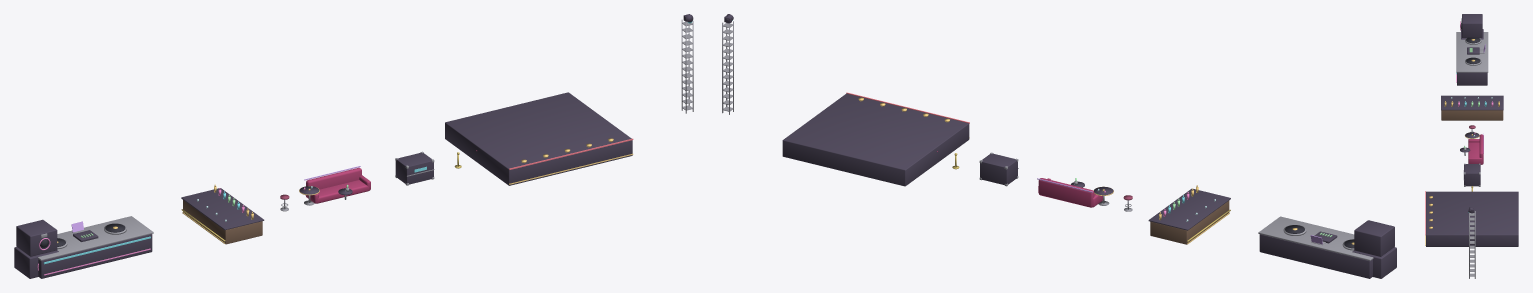
File: props.glb
The picture shows the model from 3 angles, left to right: view 1: azimuth 30°, elevation 25°; view 2: azimuth 150°, elevation 25°; view 3: azimuth 270°, elevation 25°; orthographic projection. The views are drawn at different scales.
Visible parts, largest first — view 1: prop.stage, prop.dj, prop.bar, prop.speaker, prop.booth, prop.truss, prop.case; view 2: prop.stage, prop.dj, prop.bar, prop.speaker, prop.booth, prop.case, prop.truss; view 3: prop.stage, prop.dj, prop.bar, prop.speaker, prop.booth, prop.truss, prop.case, prop.table.
Part boxes in pixels (<box>): prop.stage: <box>445,92,633,185</box>; prop.dj: <box>38,216,153,278</box>; prop.bar: <box>181,184,264,244</box>; prop.speaker: <box>14,219,58,278</box>; prop.booth: <box>304,166,370,203</box>; prop.truss: <box>681,14,693,113</box>; prop.case: <box>395,151,434,185</box>; prop.stage: <box>782,92,969,186</box>; prop.dj: <box>1258,216,1373,278</box>; prop.bar: <box>1148,185,1230,244</box>; prop.speaker: <box>1352,220,1396,278</box>; prop.booth: <box>1037,178,1102,207</box>; prop.case: <box>979,152,1018,186</box>; prop.truss: <box>722,14,733,114</box>; prop.stage: <box>1425,191,1518,246</box>; prop.dj: <box>1456,32,1488,85</box>; prop.bar: <box>1441,95,1503,120</box>; prop.speaker: <box>1460,14,1483,39</box>; prop.booth: <box>1460,133,1483,164</box>; prop.truss: <box>1468,207,1475,278</box>; prop.case: <box>1463,163,1480,186</box>; prop.table: <box>1465,132,1479,138</box>.
Bounding box in the file's own units: 54.02 × 7.59 × 9.06.
